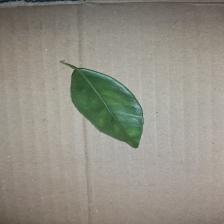greening: (54, 59, 148, 149)
